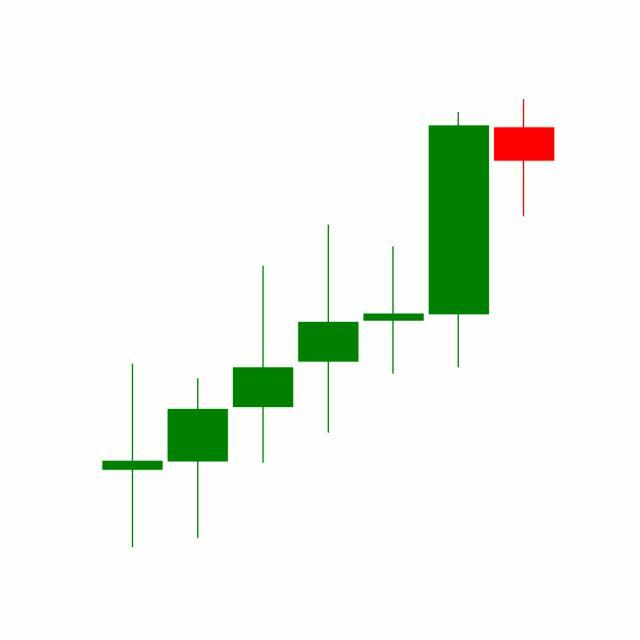Hikkake Pattern: (165, 108, 492, 544)
